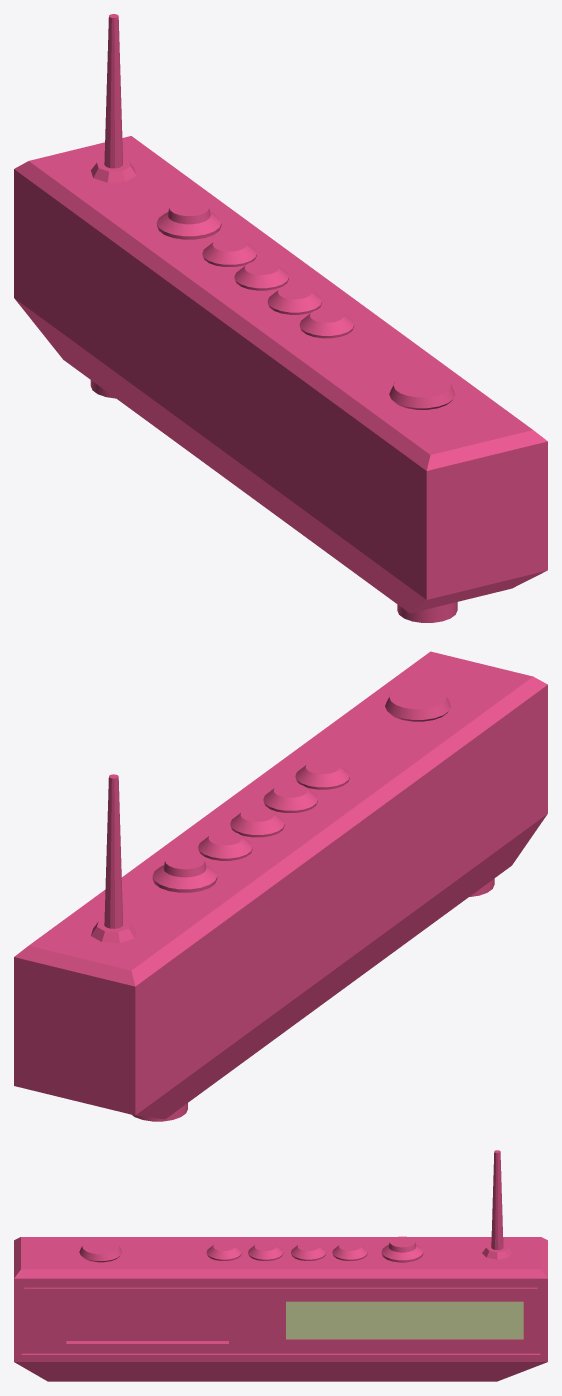
The model's file is clockblend.fbx.
3 renders of one model, top to bottom at view 1: azimuth 30°, elevation 25°; view 2: azimuth 150°, elevation 25°; view 3: azimuth 270°, elevation 25°, orthographic. The views are drawn at different scales.
Parts seen in each view (by area): view 1: Cylinder.003; view 2: Cylinder.003; view 3: Cylinder.003, Cylinder.001.
Boxes of the visible parts, x1,y1,x2,y2 form: Cylinder.003: [14, 14, 547, 622]; Cylinder.003: [14, 651, 547, 1121]; Cylinder.003: [14, 1150, 547, 1381]; Cylinder.001: [286, 1301, 523, 1339].
Size of the model in its own units: 7.33 by 20 by 43.14.
